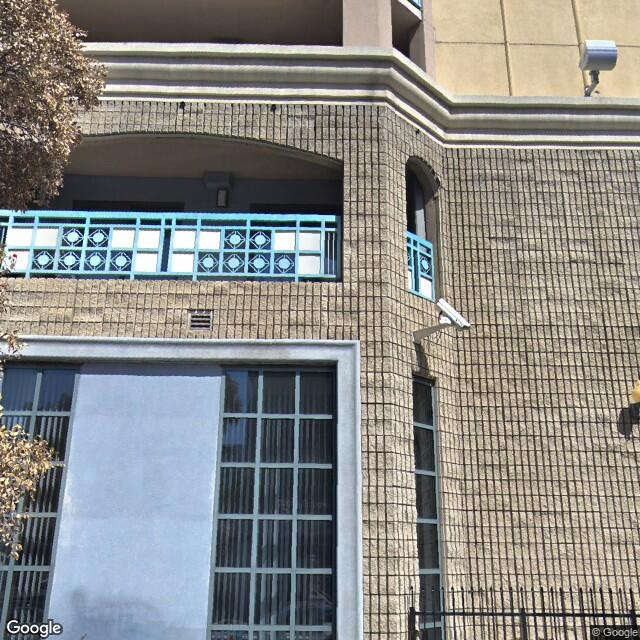window: (220, 364, 341, 640), (415, 369, 446, 636)
